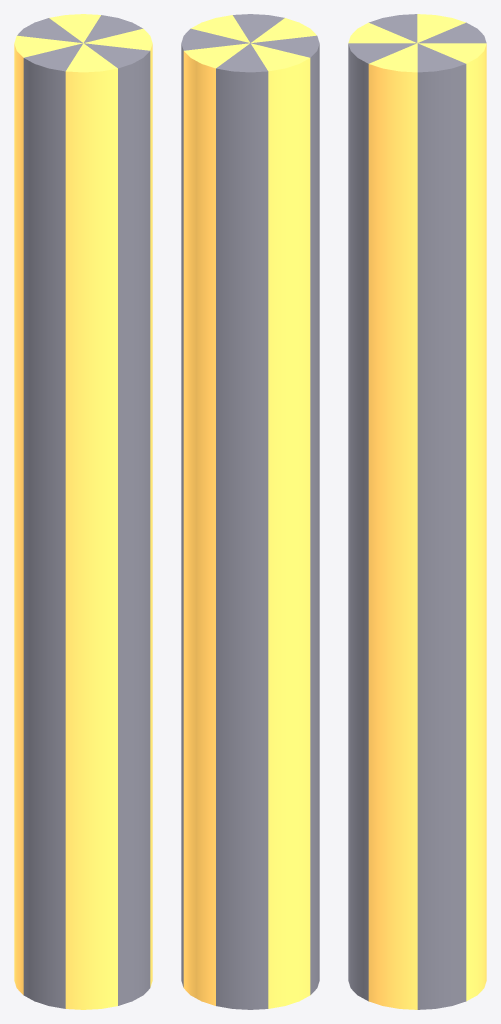
3 views of the same model, side by side, from view 1: azimuth 30°, elevation 25°; view 2: azimuth 150°, elevation 25°; view 3: azimuth 270°, elevation 25° (orthographic).
Parts seen in each view (by area): view 1: model_7; view 2: model_7; view 3: model_7.
Boxes of the visible parts, left/top/right/bottom form: model_7: left=14, top=14, right=152, bottom=1009; model_7: left=181, top=14, right=319, bottom=1009; model_7: left=348, top=14, right=486, bottom=1009.
Bounding box in the file's own units: 0.0508 × 0.38 × 0.0508.
